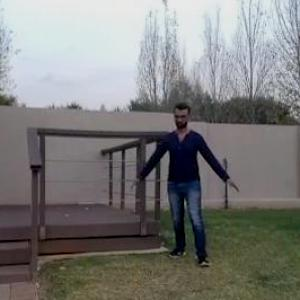land: (127, 93, 240, 286)
